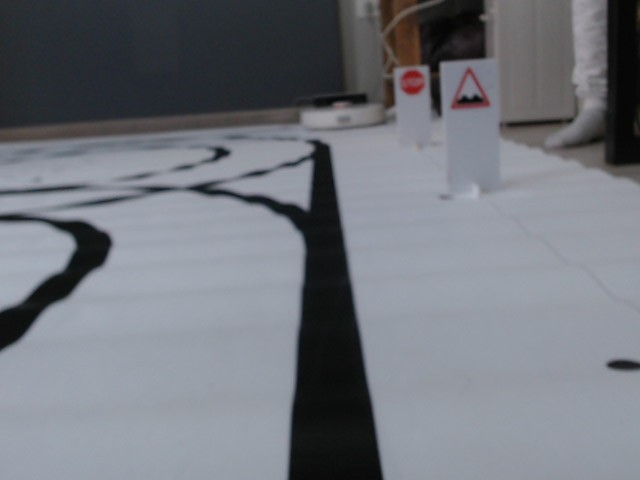Nerov: (449, 66, 490, 110)
